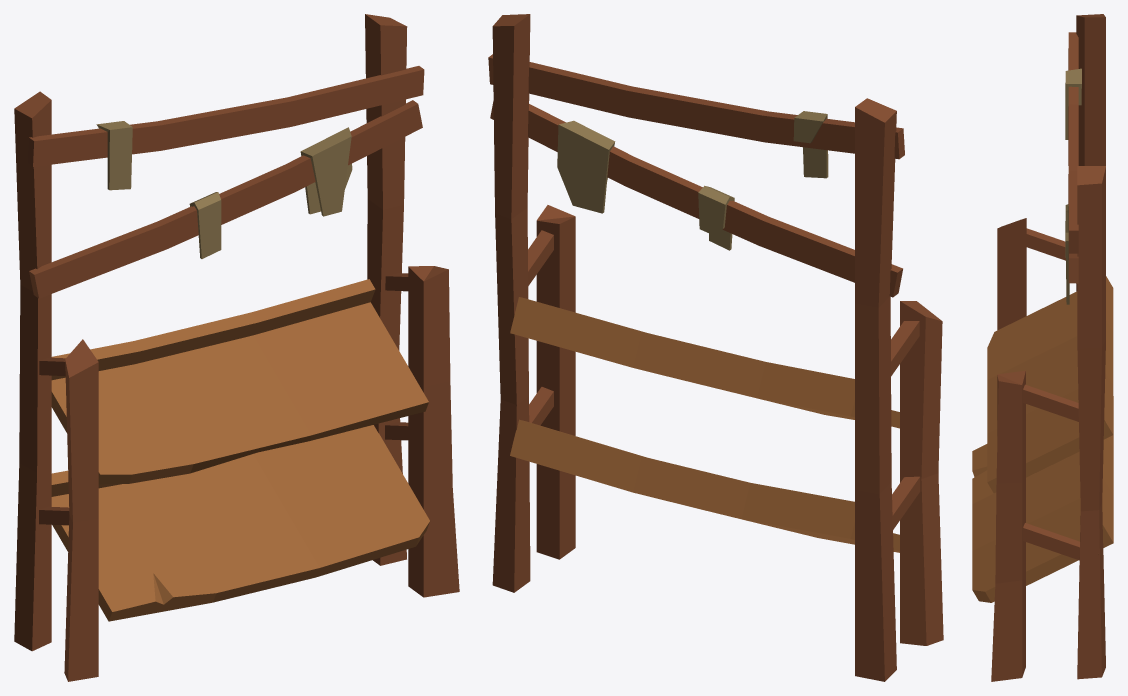
File: LP_PostApoc_ShopStandEmpty.fbx
The picture shows the model from 3 angles, left to right: view 1: azimuth 30°, elevation 25°; view 2: azimuth 150°, elevation 25°; view 3: azimuth 270°, elevation 25°; orthographic projection. The views are drawn at different scales.
Visible parts, largest first — view 1: ShopStandEmpty; view 2: ShopStandEmpty; view 3: ShopStandEmpty.
Part boxes in pixels (x1,y1,x2,y2): ShopStandEmpty: (14,14,459,681); ShopStandEmpty: (488,14,943,681); ShopStandEmpty: (972,14,1113,681).
Bounding box in the file's own units: 185 × 244 × 62.35.
